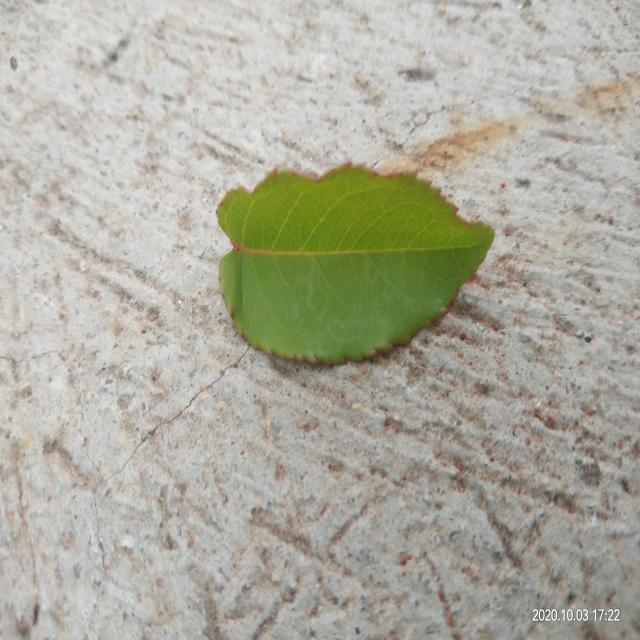rose: (216, 163, 494, 363)
